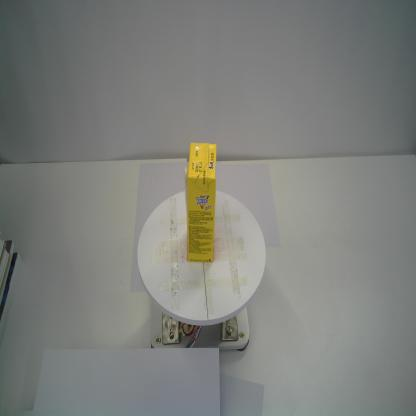Drink: (184, 139, 219, 266)
